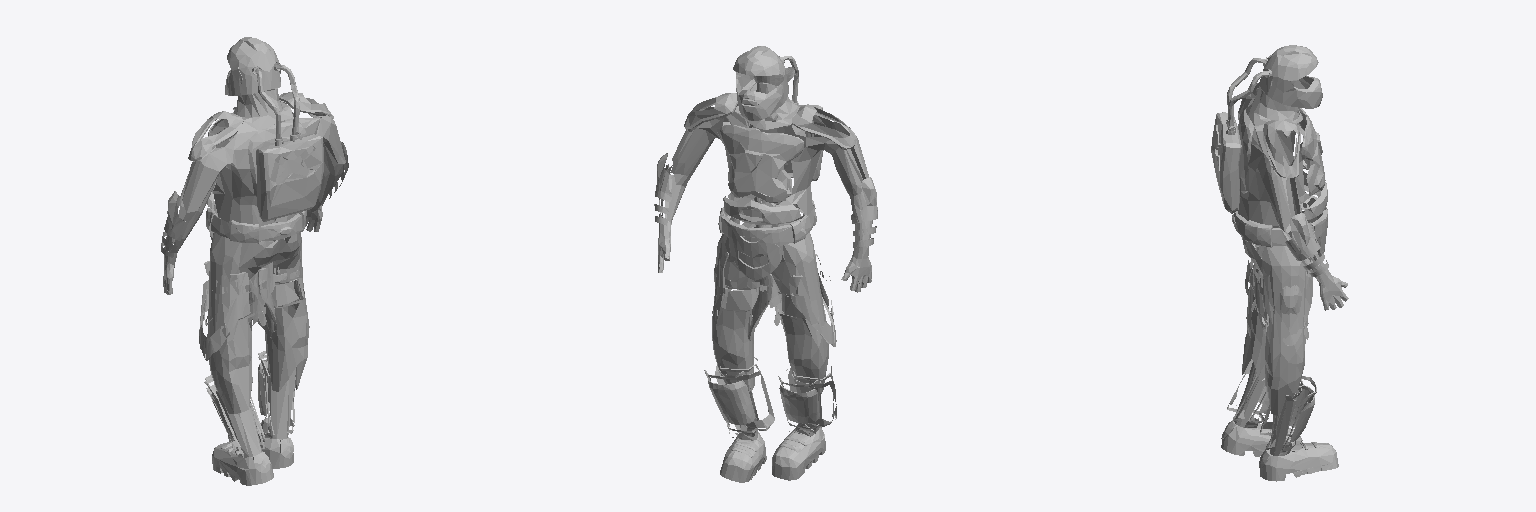
3 views of the same model, side by side, from view 1: azimuth 30°, elevation 25°; view 2: azimuth 150°, elevation 25°; view 3: azimuth 270°, elevation 25° (orthographic).
Parts seen in each view (by area): view 1: _polySurface20, _PANTALON, _CAMISETABUENA, _bota1, _cinturon, _cosoarmdaurapierna1, _armadbota1; view 2: _polySurface20, _PANTALON, _CAMISETABUENA, _bota1, _cinturon, _armadbota1, _cosoarmadurapierna2; view 3: _polySurface20, _PANTALON, _CAMISETABUENA, _bota1, _cinturon, _armadbota1.
Part boxes in pixels (x1,y1,x2,y2): _polySurface20: (161,37,348,457); _PANTALON: (207,219,309,413); _CAMISETABUENA: (170,89,345,252); _bota1: (212,366,296,485); _cinturon: (206,201,306,243); _cosoarmdaurapierna1: (239,262,286,325); _armadbota1: (205,351,293,449); _polySurface20: (654,46,877,430); _PANTALON: (712,215,828,395); _CAMISETABUENA: (665,82,868,224); _bota1: (715,366,825,482); _cinturon: (718,194,816,280); _armadbota1: (704,370,821,432); _cosoarmadurapierna2: (748,274,772,340); _polySurface20: (1211,45,1348,449); _PANTALON: (1241,211,1317,415); _CAMISETABUENA: (1238,87,1316,272); _bota1: (1221,362,1338,481); _cinturon: (1232,193,1327,258); _armadbota1: (1250,376,1316,451).
Bounding box in the file's own units: 4.77 × 9.68 × 2.87.